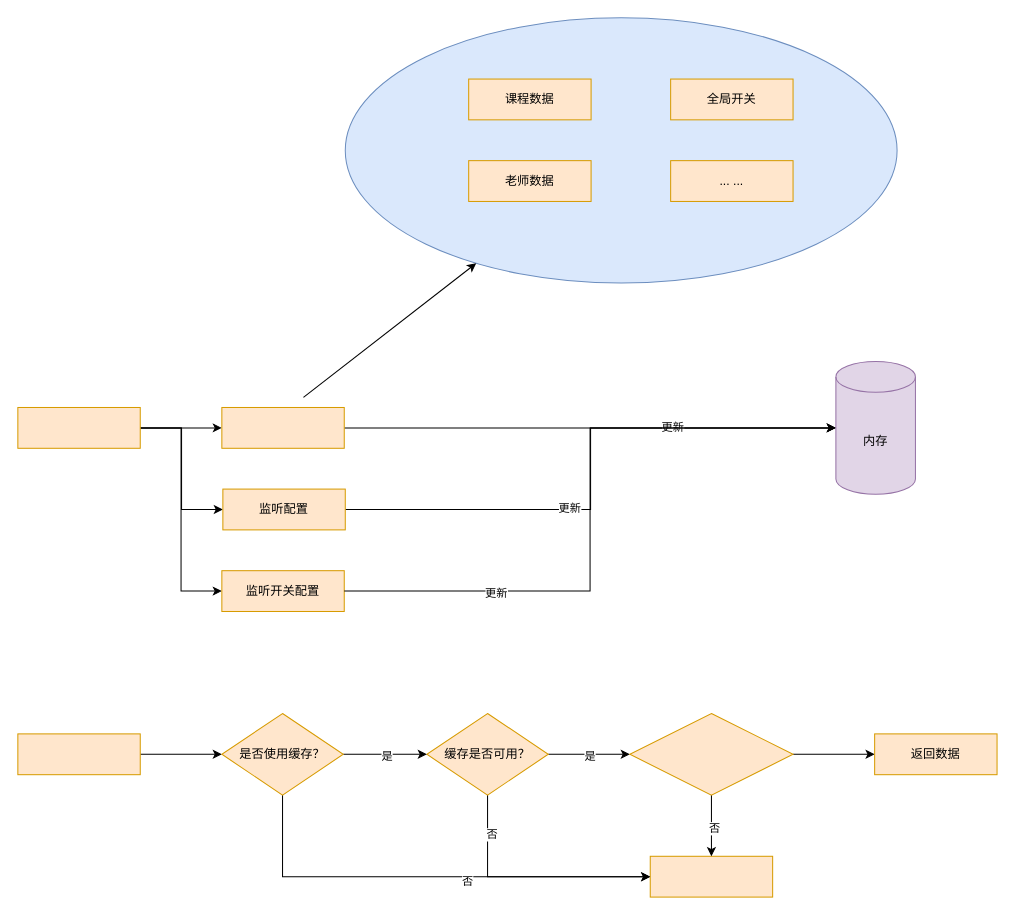
Some shapes in this 1015 by 915 pixel diagram are drawn without their labels. Here are the shapes that lost their labels. From the top down, the centre of each, then its label:
(78,427): 初始化
(282,427): 查询组下面配置
(78,754): 查询
(711,753): 是否有需要的全部数据？
(711,876): 调用 goservice
